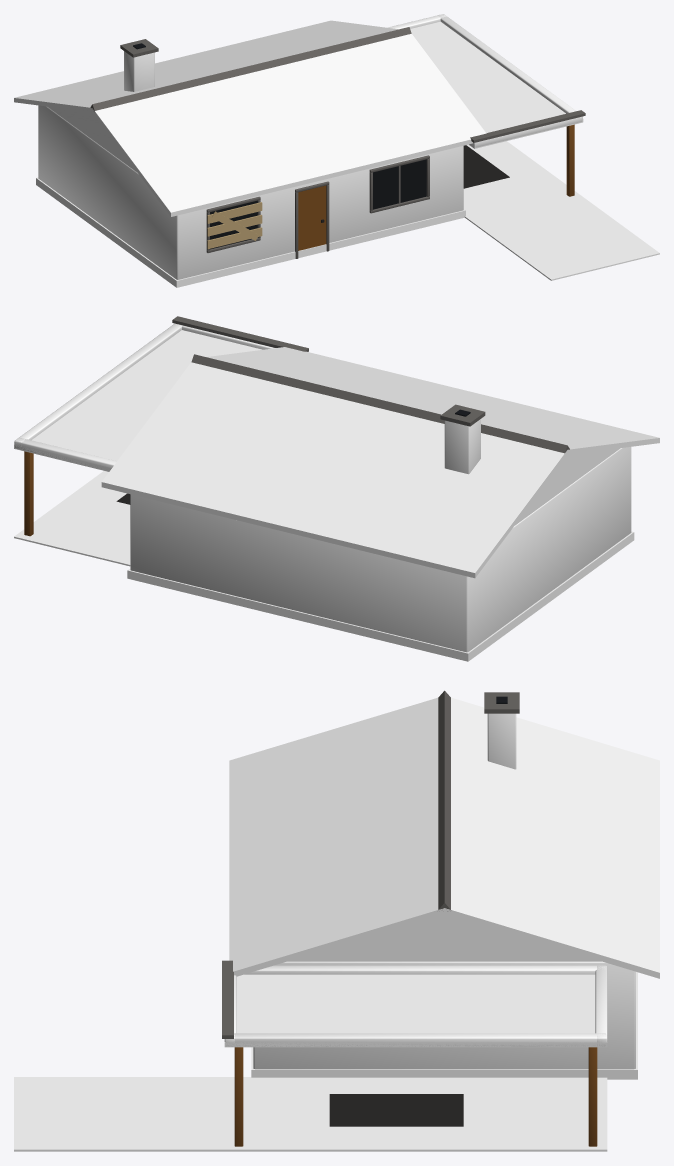
Rendered from bld_ranch_carport.glb.
The picture shows the model from 3 angles, top to bottom: view 1: azimuth 30°, elevation 25°; view 2: azimuth 150°, elevation 25°; view 3: azimuth 270°, elevation 25°; orthographic projection. The views are drawn at different scales.
Visible parts, largest first — view 1: rc_roof_front, rc_walls, rc_slab, rc_roof_back, rc_port_deck, rc_footing, rc_roof_cap, rc_win1, rc_door, rc_port_parapet.003, rc_roof_gable, rc_oil (+9 smaller); view 2: rc_roof_back, rc_walls, rc_roof_front, rc_port_deck, rc_slab, rc_footing, rc_roof_cap, rc_port_parapet.003, rc_roof_gable, rc_chim, rc_port_coping, rc_port_parapet.001 (+2 smaller); view 3: rc_roof_front, rc_roof_back, rc_slab, rc_port_deck, rc_walls, rc_roof_gable, rc_oil, rc_port_parapet.003, rc_footing, rc_port_parapet.002, rc_roof_cap, rc_chim (+5 smaller).
Part boxes in pixels (<box>): rc_roof_front: <box>92,33,486,216</box>; rc_walls: <box>38,105,463,279</box>; rc_slab: <box>463,141,659,280</box>; rc_roof_back: <box>14,20,398,112</box>; rc_port_deck: <box>410,21,583,148</box>; rc_footing: <box>36,177,465,287</box>; rc_roof_cap: <box>90,27,411,111</box>; rc_win1: <box>373,159,426,209</box>; rc_door: <box>298,185,326,250</box>; rc_port_parapet.003: <box>438,15,576,113</box>; rc_roof_gable: <box>47,106,136,171</box>; rc_oil: <box>463,145,509,188</box>; rc_roof_back: <box>101,362,567,578</box>; rc_walls: <box>130,447,631,652</box>; rc_roof_front: <box>206,347,659,454</box>; rc_port_deck: <box>14,330,262,471</box>; rc_slab: <box>14,471,130,566</box>; rc_footing: <box>127,531,634,661</box>; rc_roof_cap: <box>191,354,569,453</box>; rc_port_parapet.003: <box>15,323,181,448</box>; rc_roof_gable: <box>515,448,620,525</box>; rc_chim: <box>444,419,480,474</box>; rc_port_coping: <box>172,316,308,351</box>; rc_port_parapet.001: <box>14,437,116,469</box>; rc_roof_front: <box>229,697,444,976</box>; rc_roof_back: <box>444,697,659,978</box>; rc_slab: <box>14,1077,607,1151</box>; rc_port_deck: <box>224,974,607,1047</box>; rc_walls: <box>253,961,635,1069</box>; rc_roof_gable: <box>287,914,601,961</box>; rc_oil: <box>329,1094,463,1126</box>; rc_port_parapet.003: <box>227,1033,606,1046</box>; rc_footing: <box>251,972,637,1079</box>; rc_port_parapet.002: <box>244,965,605,974</box>; rc_roof_cap: <box>438,690,450,911</box>; rc_chim: <box>487,713,516,769</box>.
Size of the model in its own units: 13.65 by 5.13 by 13.5.
